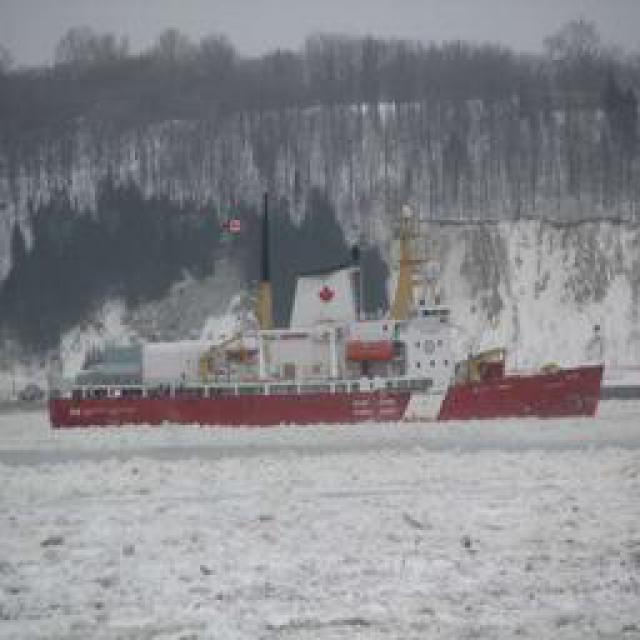Ship: (55, 310, 420, 428)
